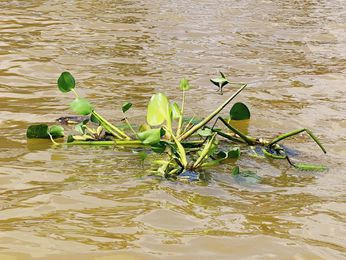water_hyacinth: (25, 64, 327, 183)
